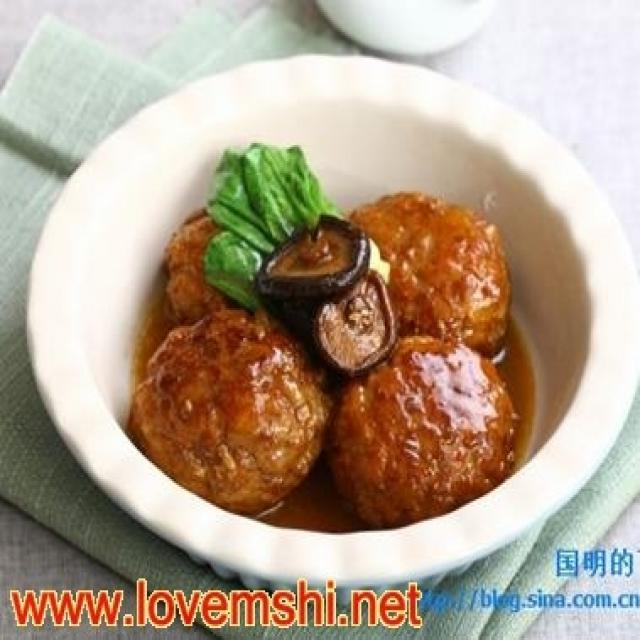meatball: (125, 306, 338, 521), (324, 332, 530, 531), (338, 179, 527, 376)
